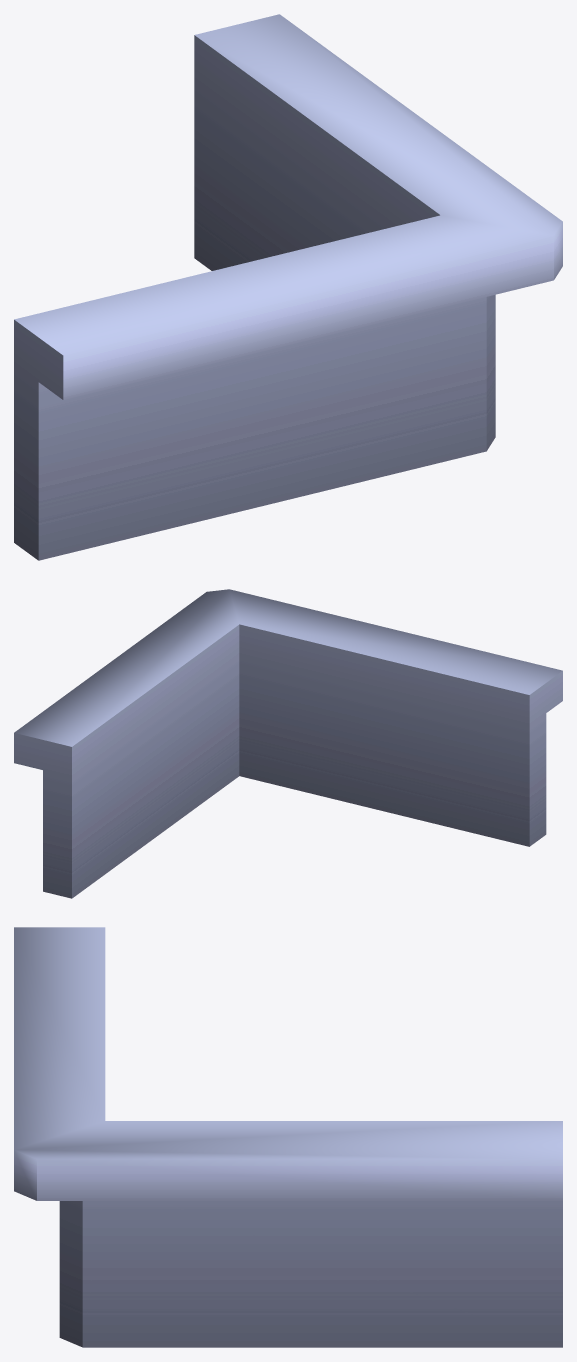
File: border-high-corner-small.glb
The picture shows the model from 3 angles, top to bottom: view 1: azimuth 30°, elevation 25°; view 2: azimuth 150°, elevation 25°; view 3: azimuth 270°, elevation 25°; orthographic projection. The views are drawn at different scales.
Parts seen in each view (by area): view 1: border-high-corner-small; view 2: border-high-corner-small; view 3: border-high-corner-small.
Part boxes in pixels (<box>): border-high-corner-small: <box>14,14,562,560</box>; border-high-corner-small: <box>14,589,562,898</box>; border-high-corner-small: <box>14,927,562,1347</box>.
Bounding box in the file's own units: 1.2 × 0.5 × 1.2.
1 material, 1 textured.
